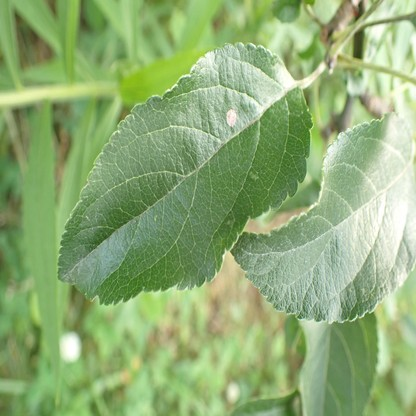frogeye: (226, 109, 238, 129)
